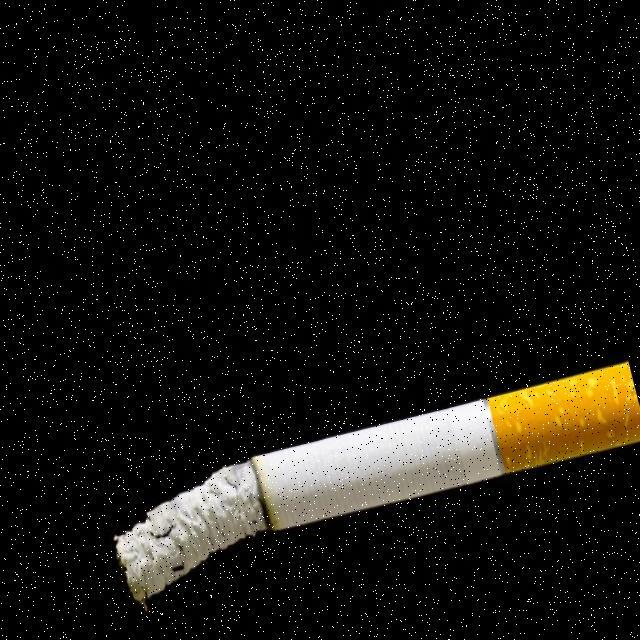cigarette: (105, 370, 640, 606)
